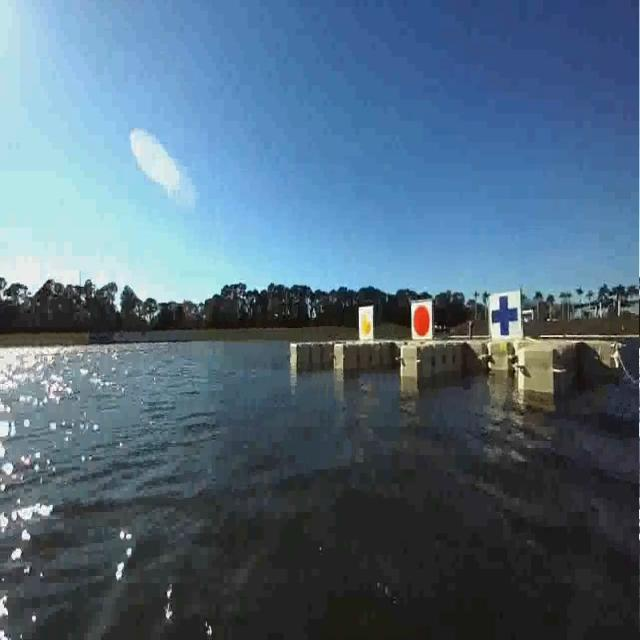blue-cross: (489, 287, 520, 335)
red-dot: (410, 302, 432, 340)
yellow-duck: (356, 302, 376, 340)
